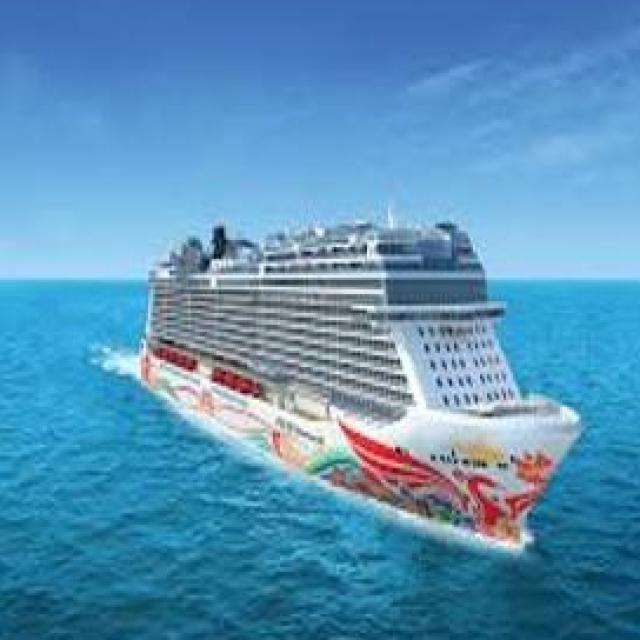passenger ship: (127, 212, 579, 547)
